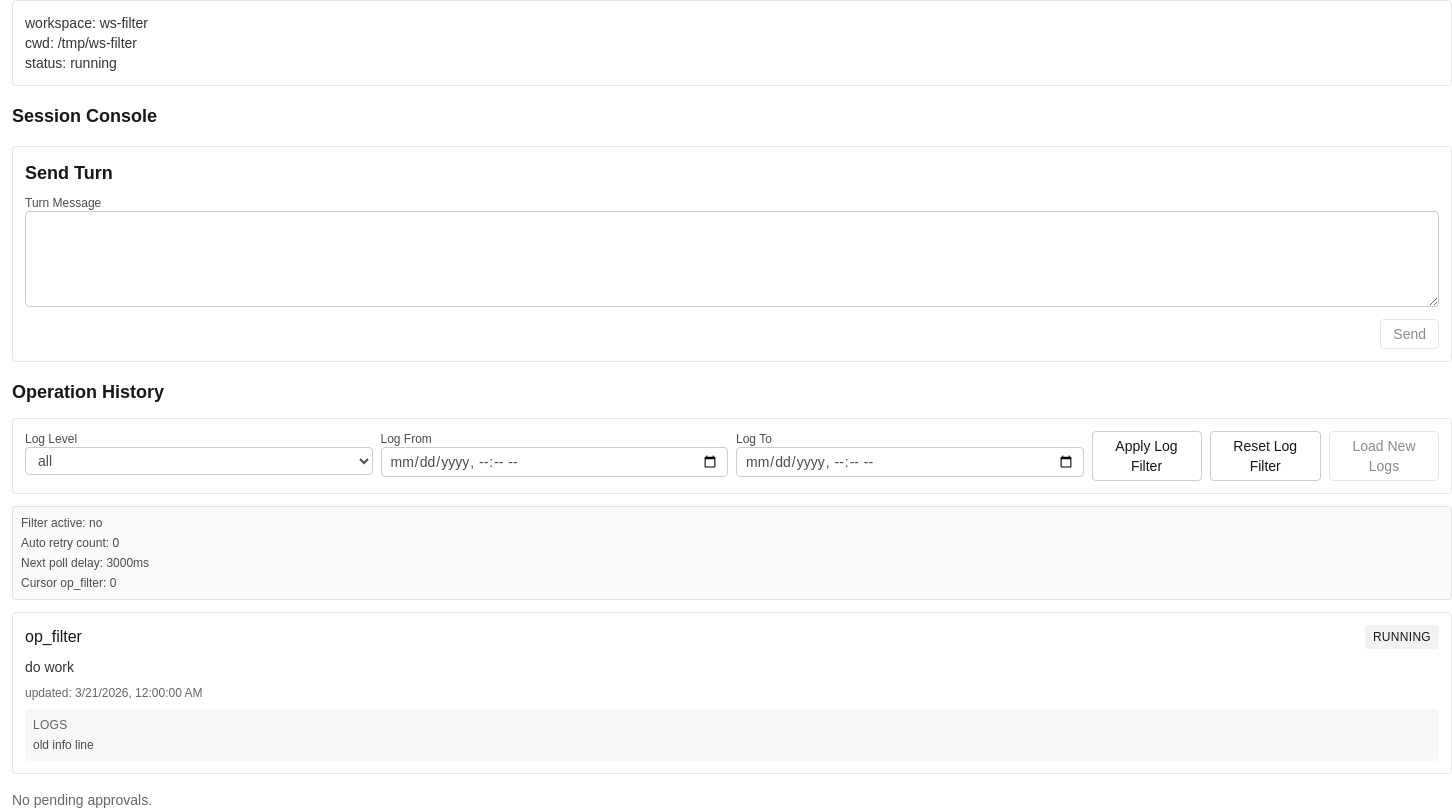
Scenario: SessionDetailLive › applies log filter and reloads visible operation logs
Select "error" in the dropdown labelled "Log Level": (199, 461) left=25, top=447, right=372, bottom=475
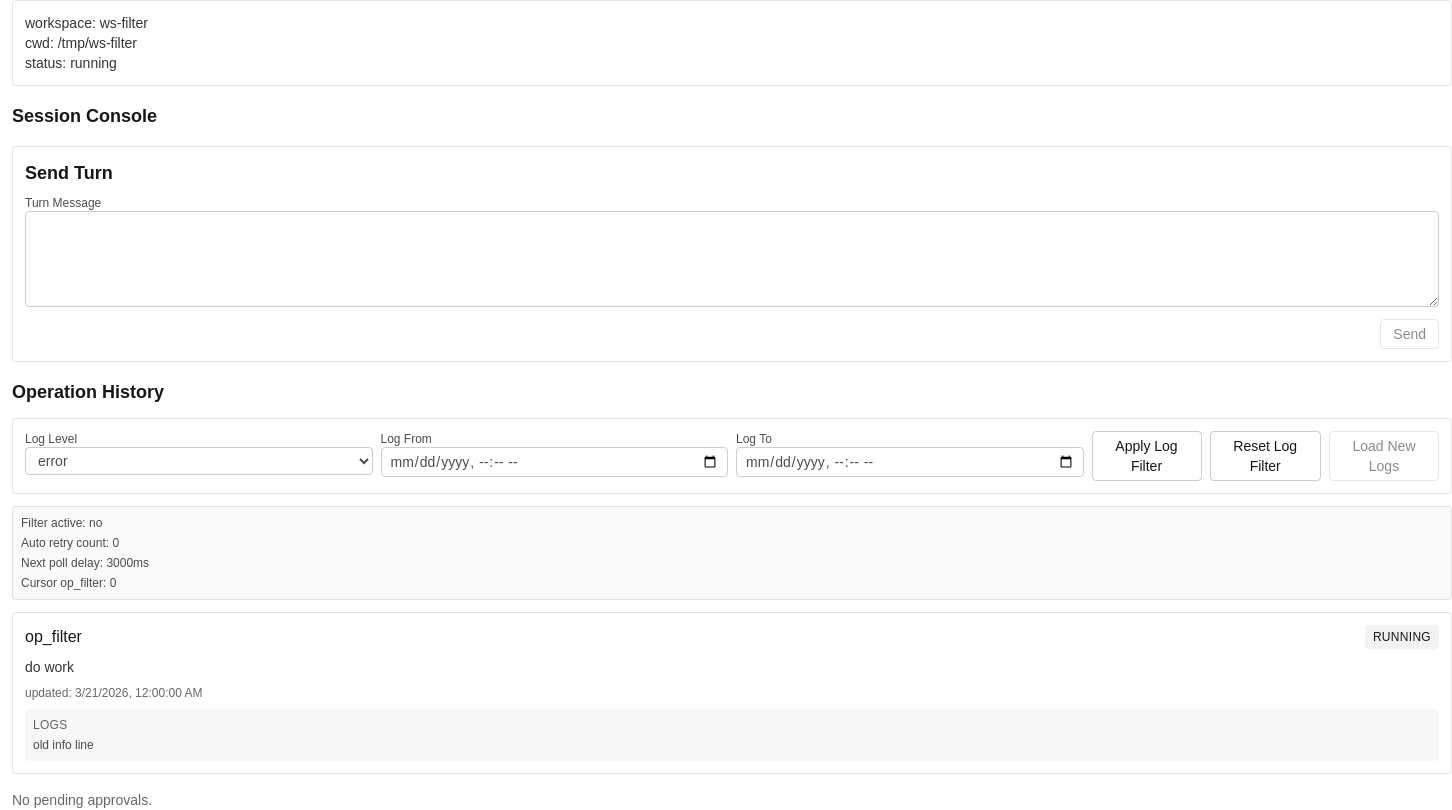
In the field labelled "Log From": (554, 462) left=380, top=447, right=728, bottom=477, type "2026-03-21T00:04"
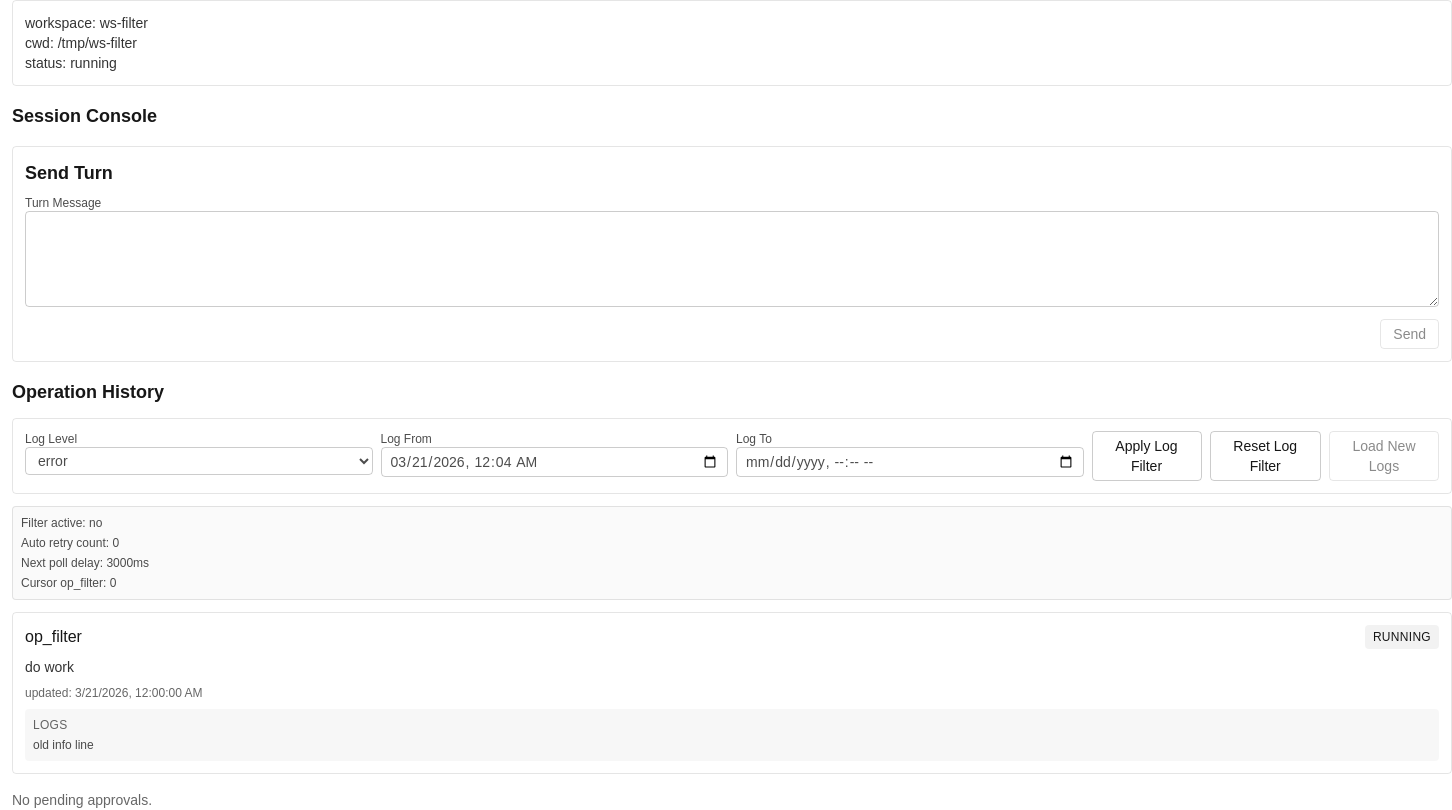
In the field labelled "Log To": (910, 462) left=736, top=447, right=1084, bottom=477, type "2026-03-21T00:06"
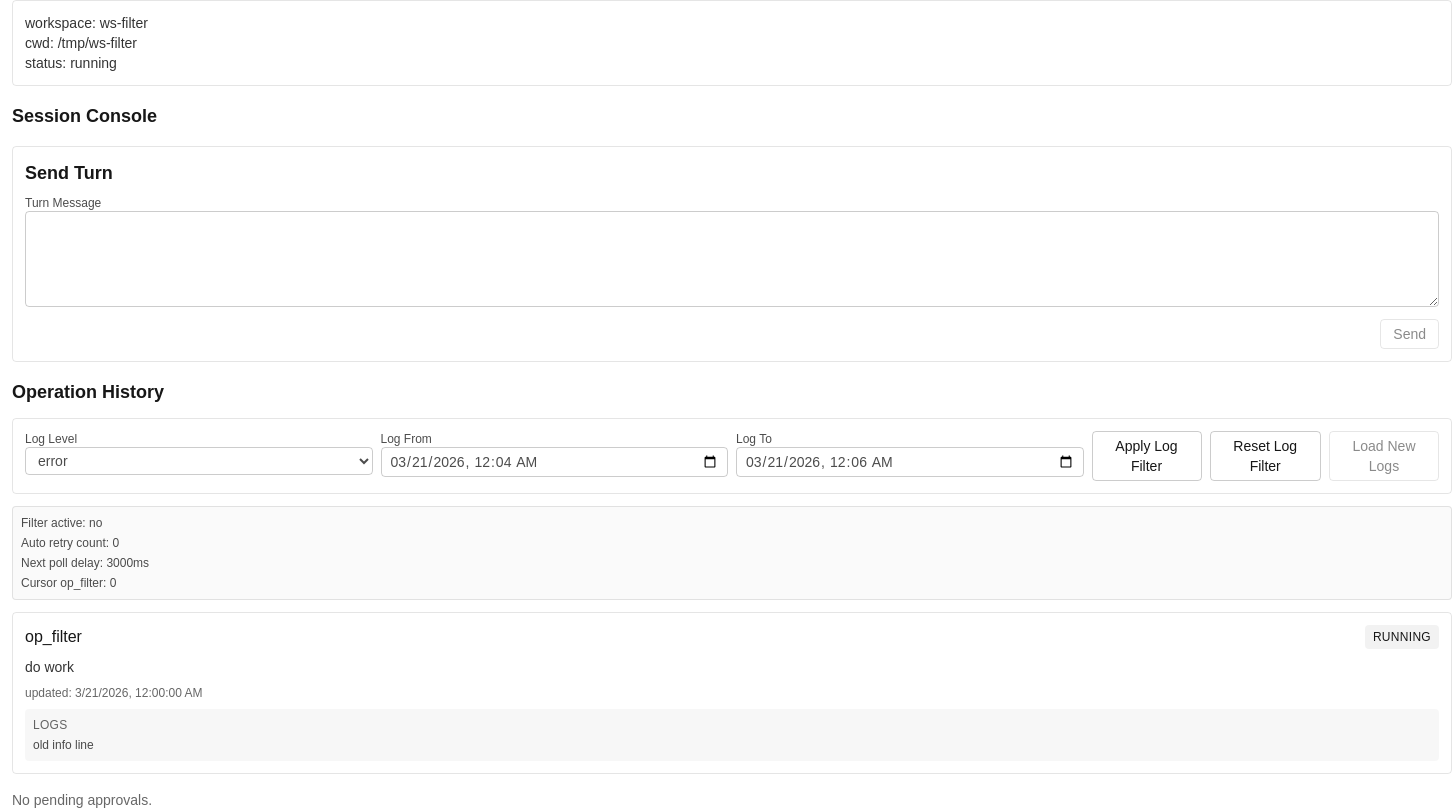
Click the button "Apply Log Filter": (1146, 456) left=1092, top=431, right=1202, bottom=481
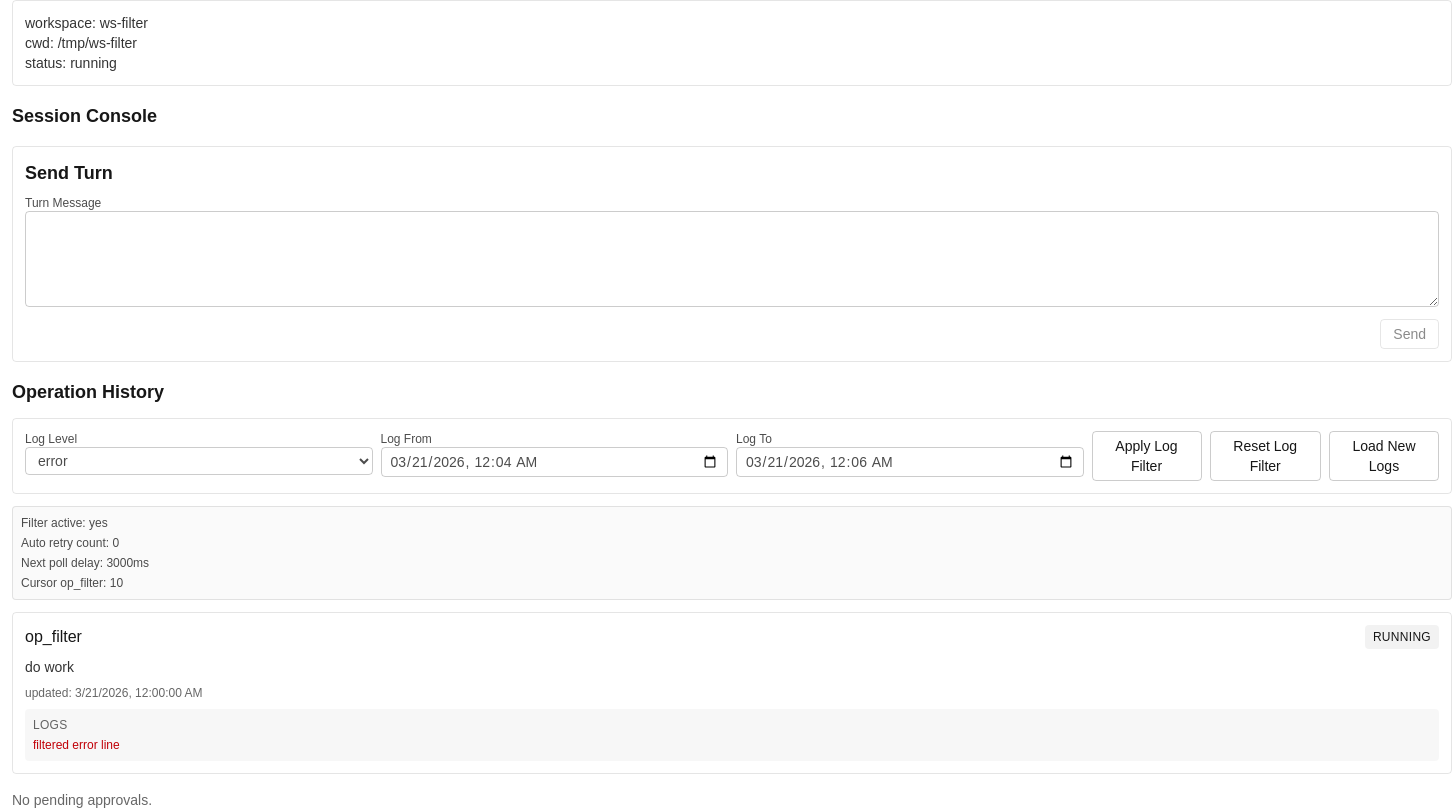
Check: the list item "filtered error line" is shown, box left=33, top=738, right=120, bottom=752
